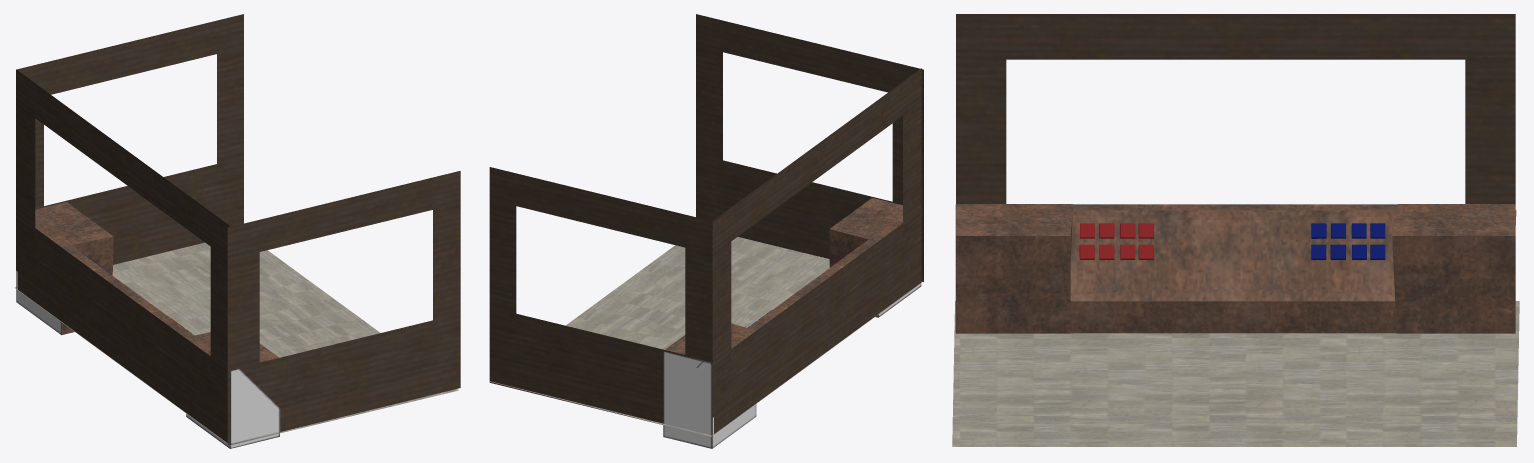
Rendered from controlroom.fbx.
3 views of the same model, side by side, from view 1: azimuth 30°, elevation 25°; view 2: azimuth 150°, elevation 25°; view 3: azimuth 270°, elevation 25° (orthographic). The views are drawn at different scales.
Parts seen in each view (by area): view 1: Control room; view 2: Control room; view 3: Control room.
Part boxes in pixels (x1,y1,x2,y2): Control room: (14,14,460,448); Control room: (489,14,923,448); Control room: (952,14,1519,446).
Size of the model in its own units: 930 by 889 by 1498.
